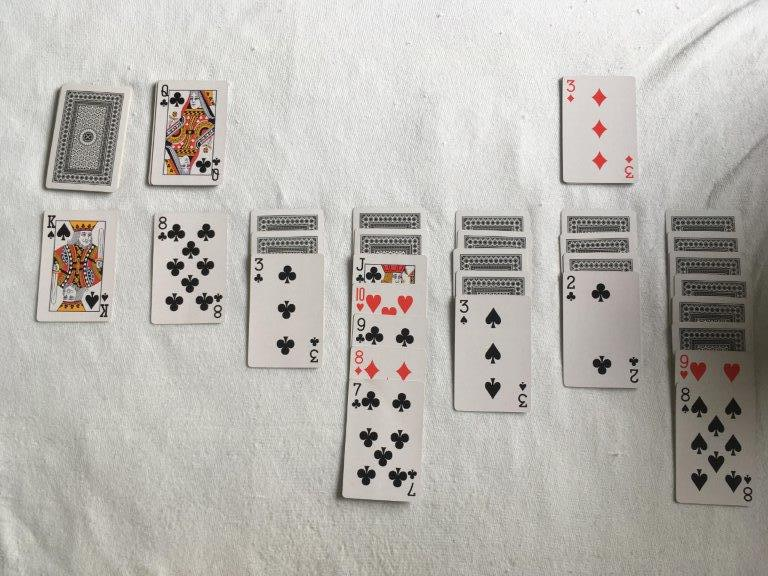10H: (354, 282, 368, 314)
2C: (564, 271, 580, 303)
3C: (252, 255, 265, 284)
3D: (564, 76, 578, 106)
3S: (458, 295, 473, 329)
7C: (349, 378, 365, 412)
8C: (155, 213, 169, 241)
8D: (352, 346, 365, 377)
8S: (678, 383, 694, 417)
9C: (354, 315, 368, 345)
9H: (677, 350, 692, 383)
BACK: (45, 83, 131, 193), (671, 321, 752, 349), (672, 294, 752, 321), (669, 249, 747, 274), (455, 269, 532, 294), (353, 227, 427, 253), (674, 272, 755, 294), (352, 206, 427, 229), (560, 209, 638, 231), (250, 229, 324, 252), (559, 231, 639, 252), (667, 230, 745, 251), (665, 209, 743, 230), (455, 208, 532, 229), (453, 247, 529, 268), (250, 208, 324, 229), (563, 251, 639, 269), (456, 229, 531, 246)
JC: (353, 254, 367, 284)
KS: (44, 211, 59, 241)
QC: (157, 80, 171, 109)
